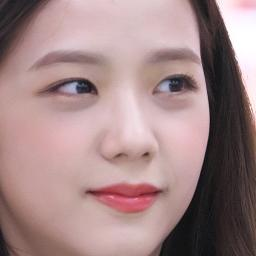face: (6, 0, 210, 256)
